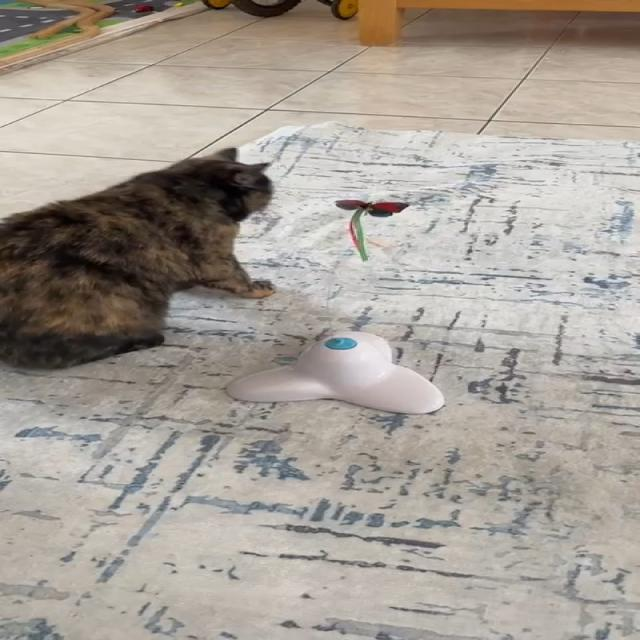authorized: (0, 145, 277, 369)
